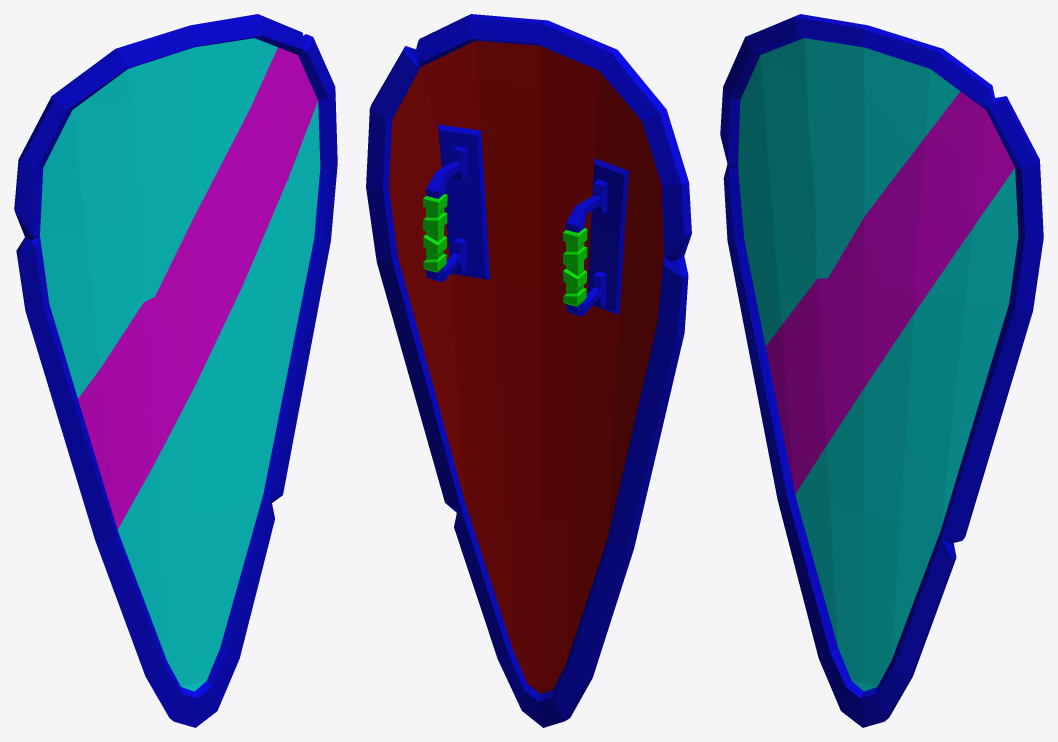
The model's file is Shield_Uncommon_Heraldic_04.fbx.
The picture shows the model from 3 angles, left to right: view 1: azimuth 30°, elevation 25°; view 2: azimuth 150°, elevation 25°; view 3: azimuth 330°, elevation 25°; orthographic projection.
Visible parts, largest first — view 1: SM_Wep_Shield_Long_09; view 2: SM_Wep_Shield_Long_09; view 3: SM_Wep_Shield_Long_09.
Part boxes in pixels (x1=…): SM_Wep_Shield_Long_09: x1=14, y1=14, x2=337, y2=727; SM_Wep_Shield_Long_09: x1=366, y1=14, x2=691, y2=727; SM_Wep_Shield_Long_09: x1=720, y1=14, x2=1043, y2=727.
Size of the model in its own units: 63.33 by 131 by 16.3.
